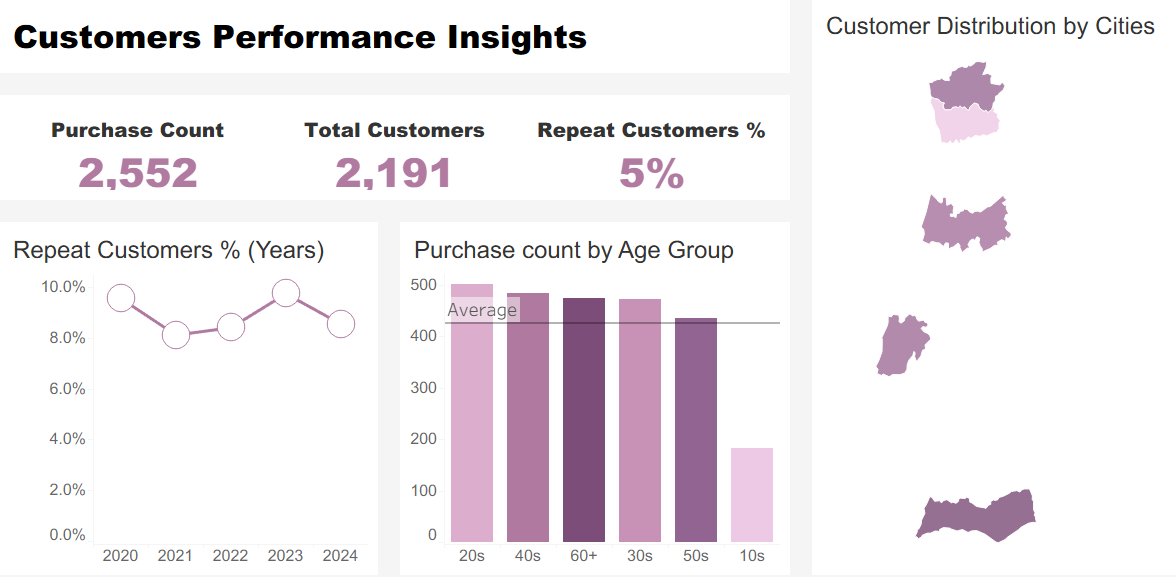

The dashboard page shown, as its layout file describes it:
{"tool":"tableau","page":{"name":"Customer Performance Insights","canvas":[1200,600],"ordinal":0},"visuals":[{"type":"text","box":[0,0,813,97]},{"type":"worksheet","title":"Customer Distribution by Cities","mark":"Multipolygon","box":[813,0,387,600]},{"type":"legend","title":"Customer Distribution by Cities","param":"[federated.07ua3ch0kyjr3q115o6q61264kej].[usr:Calculation_0481349605347336:qk]","box":[1032,8,160,81]},{"type":"legend","title":"Purchase count by Age Group","param":"[federated.07ua3ch0kyjr3q115o6q61264kej].[none:age_group:nk]","box":[1032,89,160,184]},{"type":"worksheet","title":"KPI","mark":"Text","box":[0,97,813,127]},{"type":"worksheet","title":"Repeat Customers % (Years)","mark":"Automatic","rows":["Calculation_0481349613678606","Calculation_0481349613678606"],"cols":["Date_of_Purchase"],"box":[0,224,401,376]},{"type":"worksheet","title":"Purchase count by Age Group","mark":"Automatic","rows":["purchase_count"],"cols":["age_group"],"box":[401,224,412,376]}]}

Visuals, with their boxes in screenshot pixels (x1, y1, x2, y2), scaled from the page's 1200x600 canvas onto the 1176x577 screenshot:
text: [0, 0, 797, 93]
"Customer Distribution by Cities" worksheet (Multipolygon marks): [797, 0, 1175, 576]
"Customer Distribution by Cities" legend: [1011, 8, 1168, 86]
"Purchase count by Age Group" legend: [1011, 86, 1168, 263]
"KPI" worksheet (Text marks): [0, 93, 797, 215]
"Repeat Customers % (Years)" worksheet: [0, 215, 393, 576]
"Purchase count by Age Group" worksheet: [393, 215, 797, 576]
